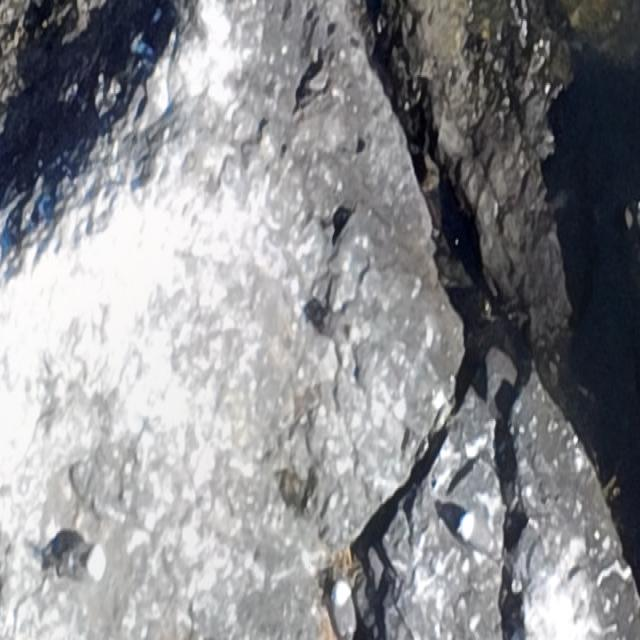umineko: (61, 541, 110, 580), (459, 514, 499, 558), (332, 590, 354, 637)
